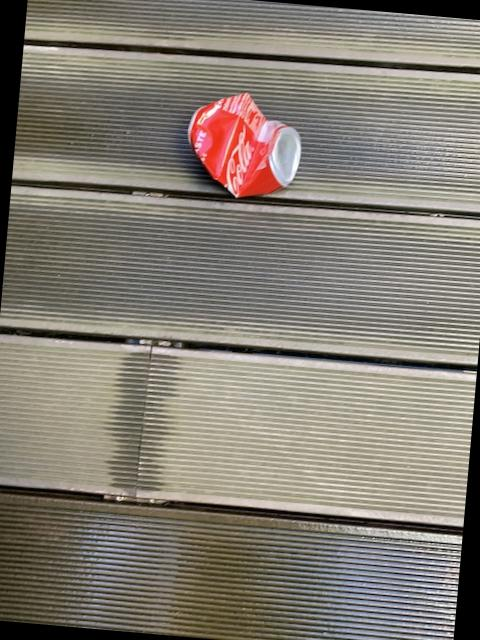metal: (186, 91, 299, 195)
